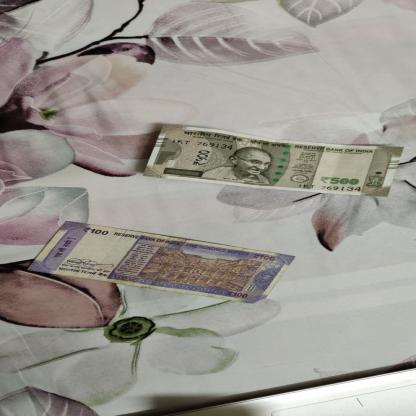New100Back: (27, 221, 297, 304)
New500Front: (143, 124, 404, 198)
